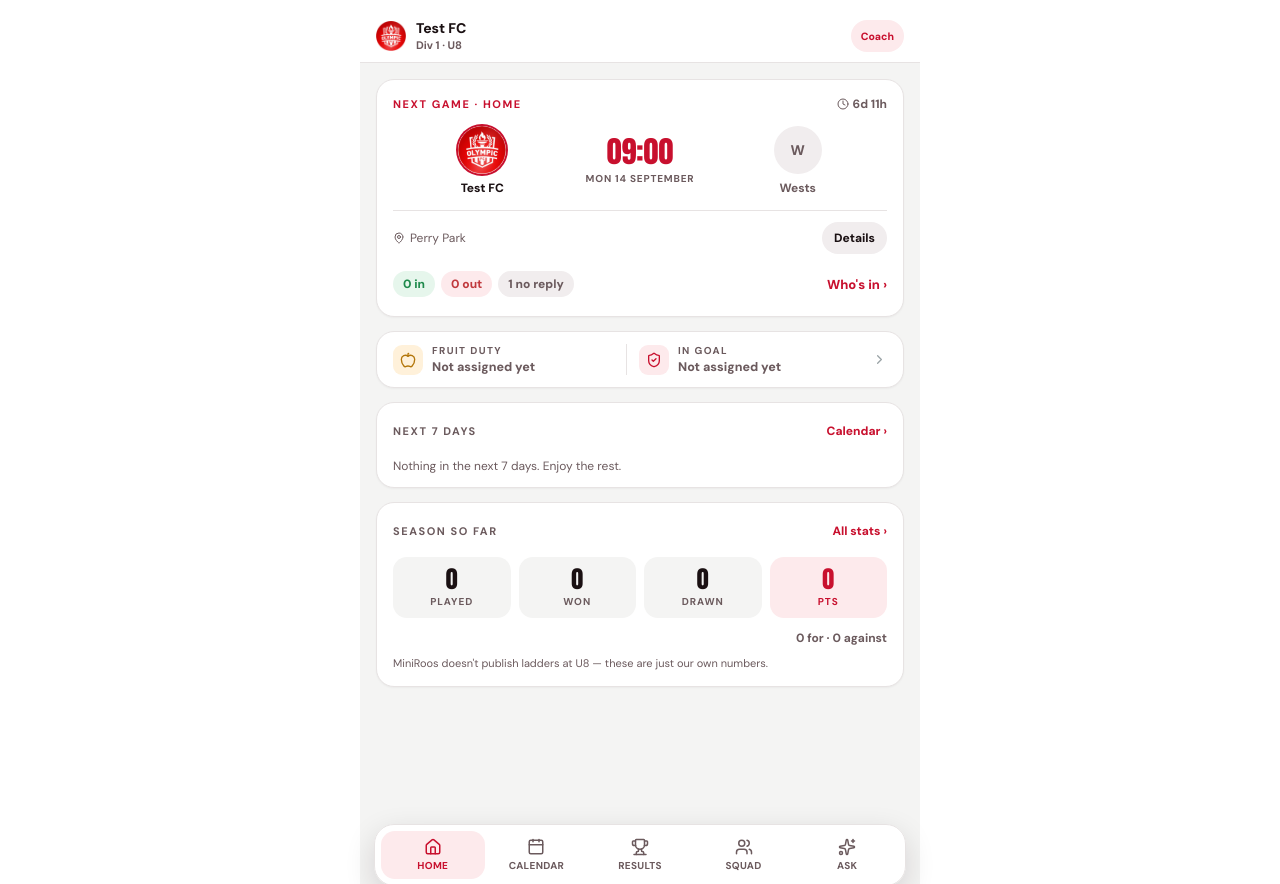
Test case: App — account-mode roles (/api/me) › a server-verified coach is in coach mode automatically (no PIN, no toggle) and reaches Team settings from the sheet
Click the button with aria-label "Viewing as" at (877, 36), box [851,20,904,52]
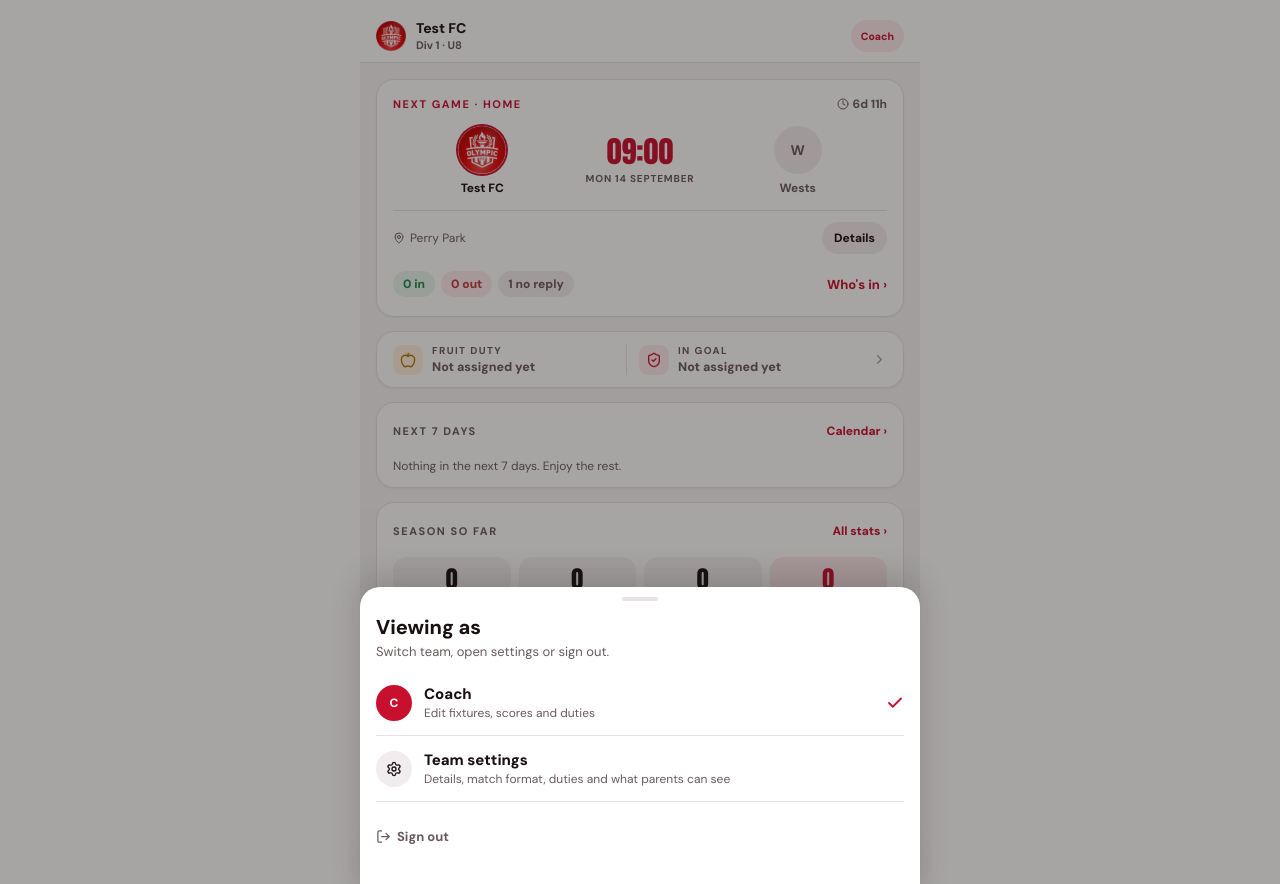
Click the text "Team settings" at (476, 760), box [424,750,528,770]
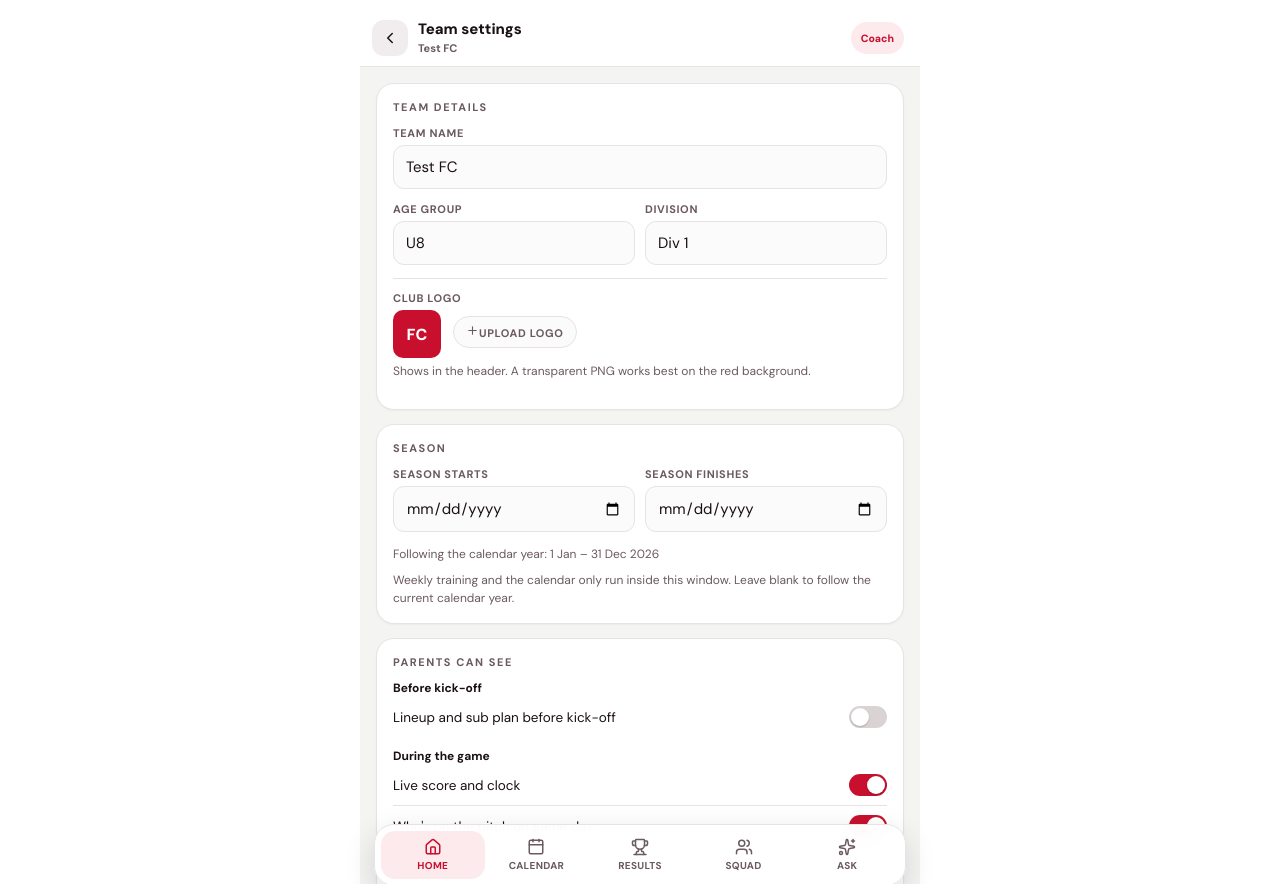
Now the text "Team details" is shown, box [393,100,488,114]
Now the text with class "hname" reads "Team settings", box [418,19,522,39]
Now the text with class "hkick" reads "Test FC", box [418,41,458,55]
